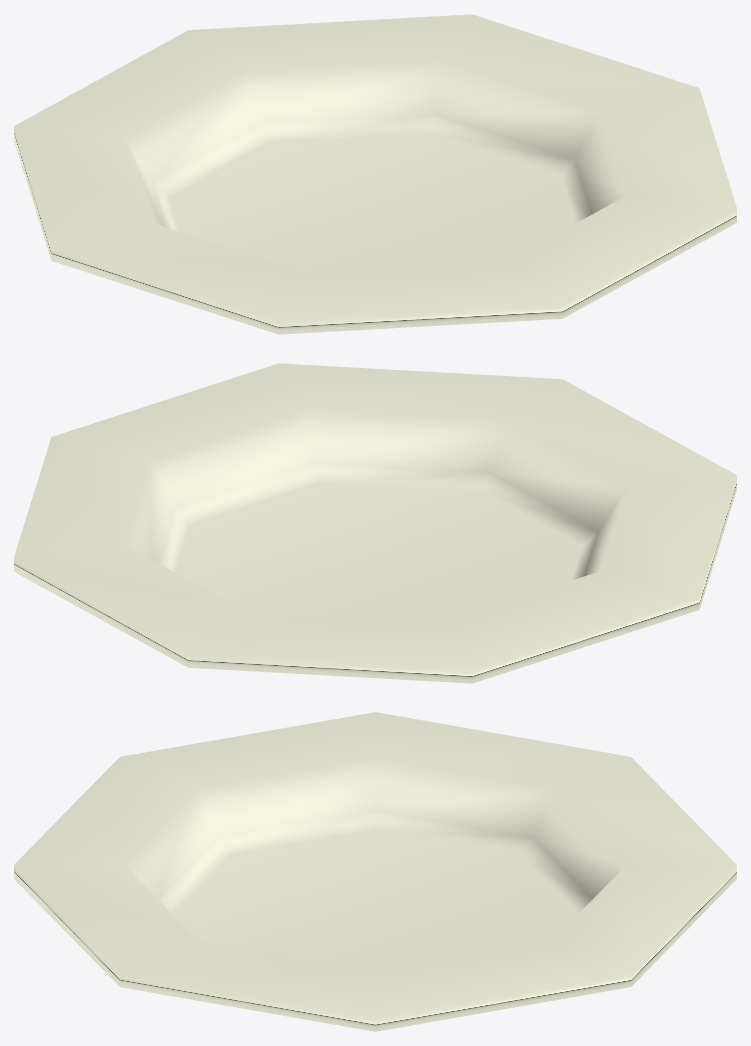
File: Plate.fbx
3 views of the same model, one above another, from view 1: azimuth 30°, elevation 25°; view 2: azimuth 150°, elevation 25°; view 3: azimuth 270°, elevation 25° (orthographic). The views are drawn at different scales.
Parts seen in each view (by area): view 1: Cylinder.1265; view 2: Cylinder.1265; view 3: Cylinder.1265.
Boxes of the visible parts, x1,y1,x2,y2 form: Cylinder.1265: (14, 14, 736, 334); Cylinder.1265: (14, 363, 736, 683); Cylinder.1265: (14, 712, 736, 1031).
Bounding box in the file's own units: 55.59 × 5.28 × 55.59.
1 material, 1 textured.
